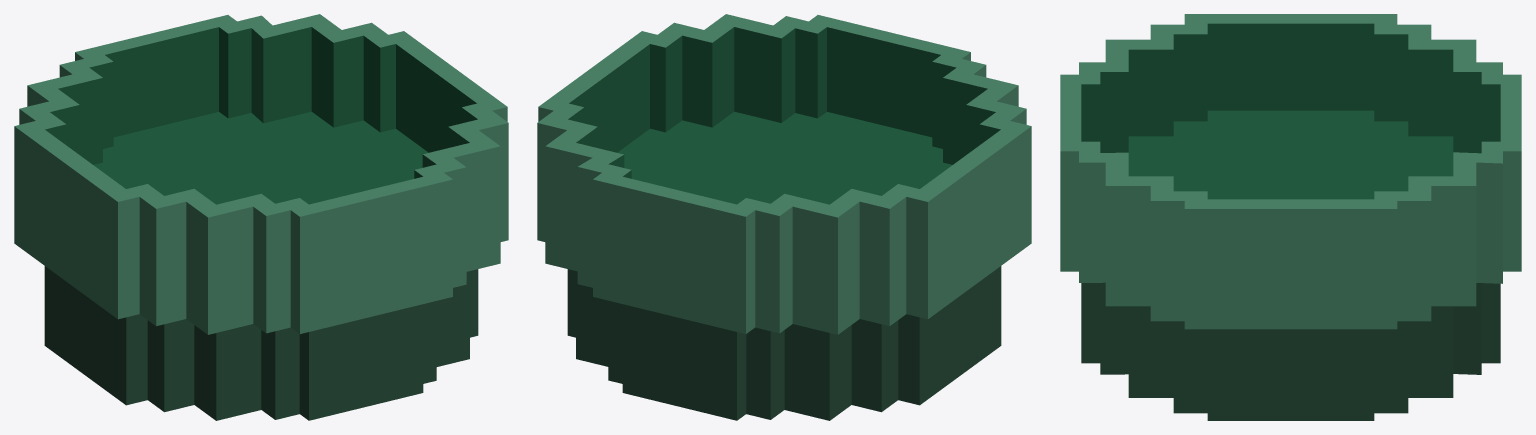
The model's file is Side_Table_Bowl.FBX.
3 renders of one model, left to right at view 1: azimuth 30°, elevation 25°; view 2: azimuth 150°, elevation 25°; view 3: azimuth 270°, elevation 25°, orthographic. The views are drawn at different scales.
Visible parts, largest first — view 1: bowl; view 2: bowl; view 3: bowl.
Part boxes in pixels (x1,y1,x2,y2): bowl: (14, 14, 508, 420); bowl: (537, 14, 1031, 420); bowl: (1060, 14, 1521, 420).
Bounding box in the file's own units: 0.4357 × 0.231 × 0.4358.
